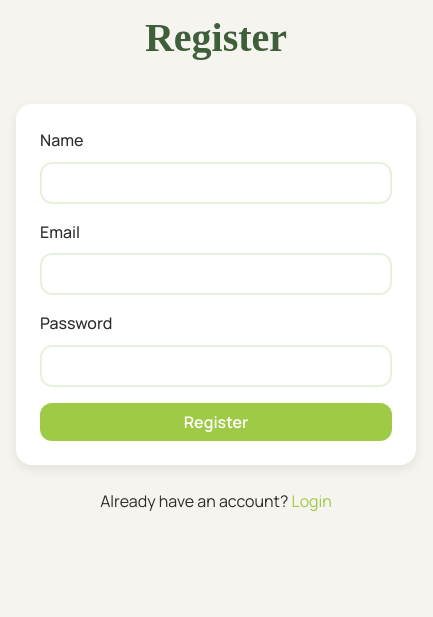
Test: Register Page › shows error message on failed registration
In the field labelled "Name": {"x": 216, "y": 183} [40, 162, 392, 204], type "Test User"
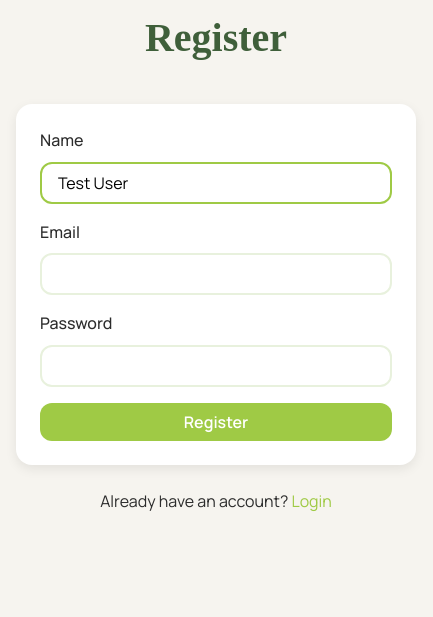
In the field labelled "Email": {"x": 216, "y": 274} [40, 253, 392, 295], type "test@example.com"
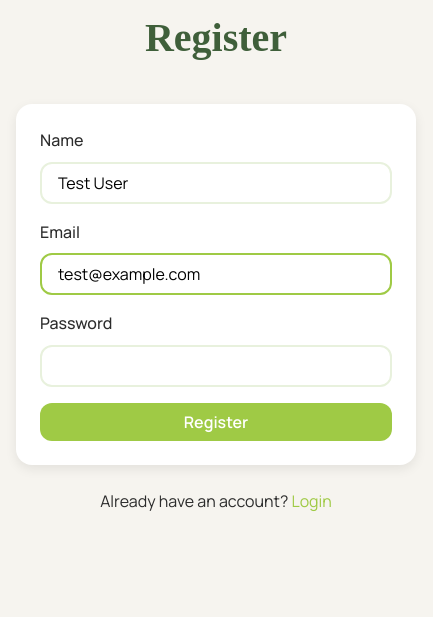
In the password field labelled "Password": {"x": 216, "y": 366} [40, 345, 392, 387], type "password123"
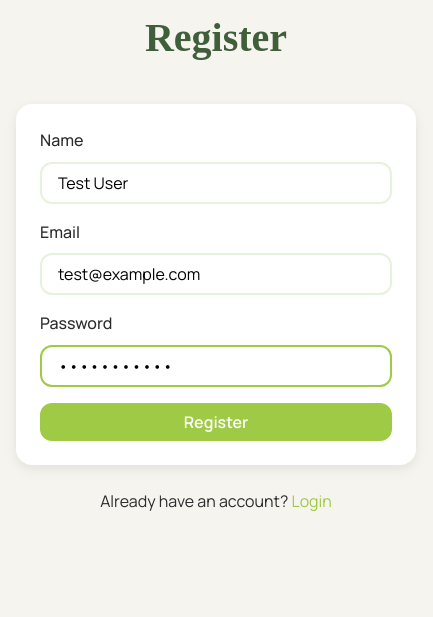
Click the button "Register": {"x": 216, "y": 422} [40, 403, 392, 441]
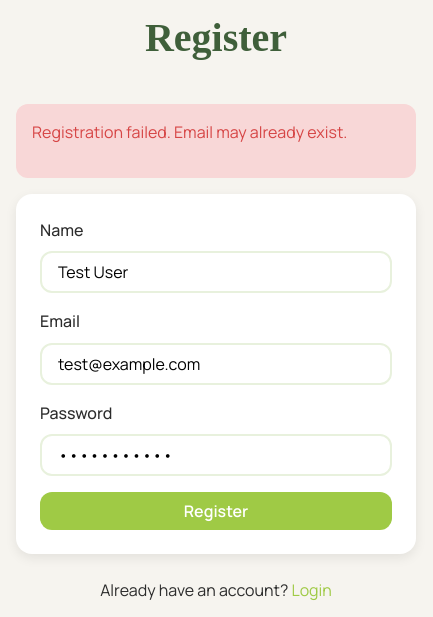
Check: the text "Registration failed. Email may already exist." is shown, box [32, 120, 400, 146]
